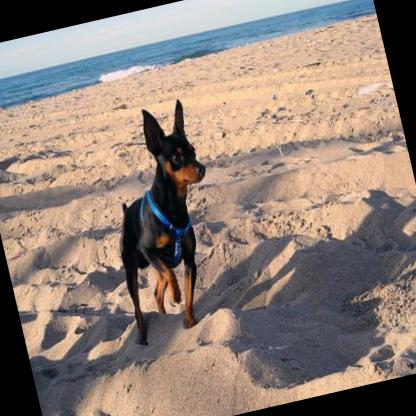miniature_pinscher: (87, 96, 242, 346)
